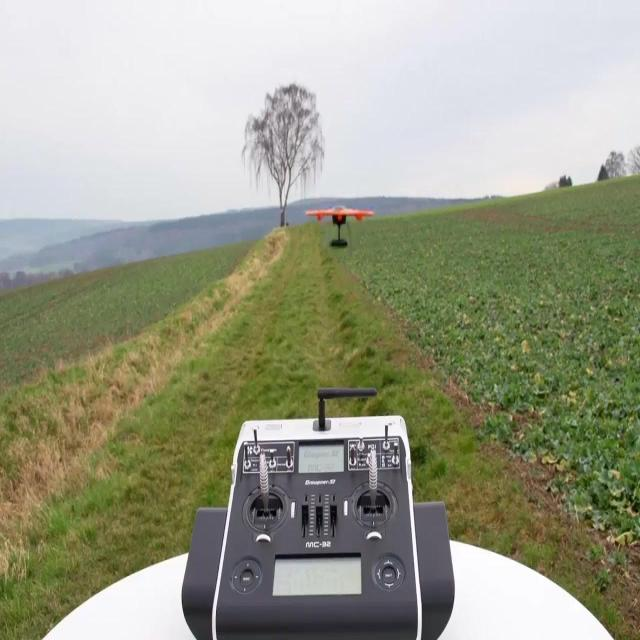drone: (304, 200, 376, 252)
